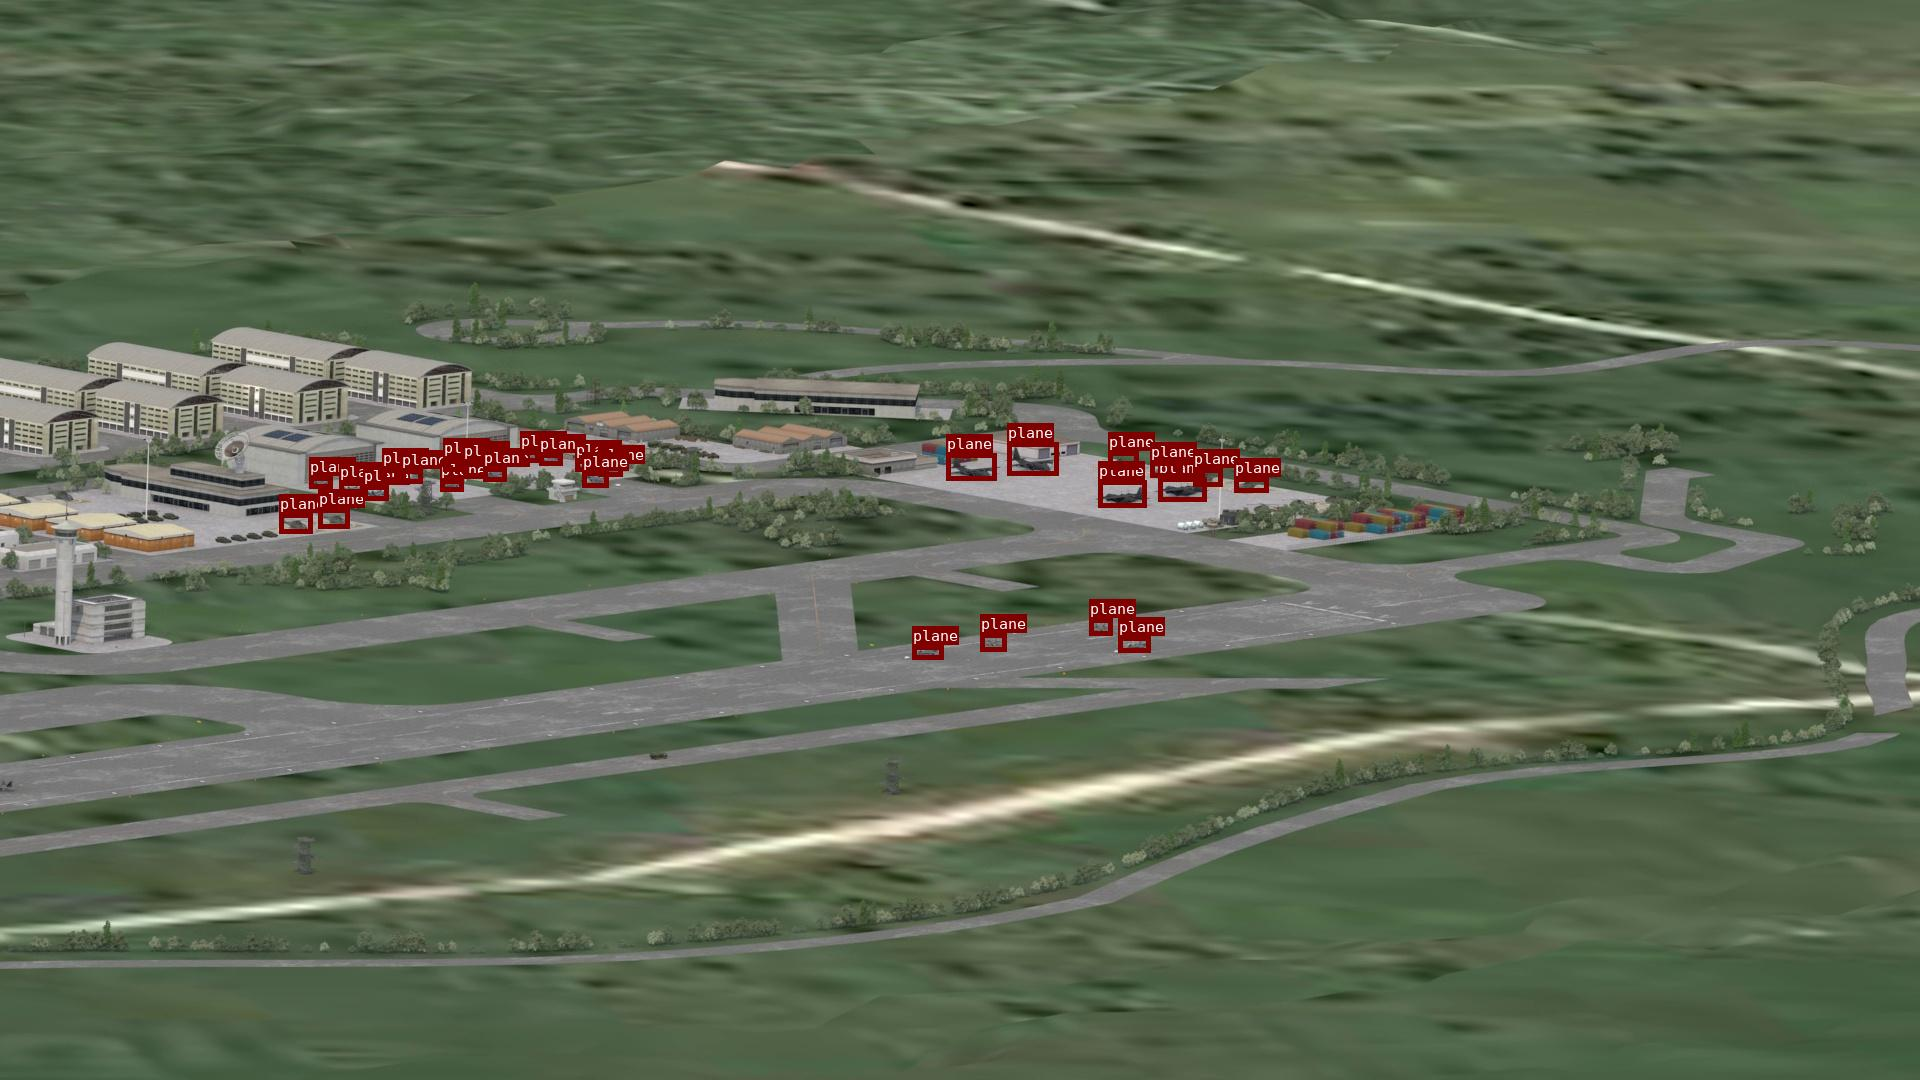plane: (1007, 442, 1058, 475), (945, 454, 996, 480), (1098, 480, 1146, 506), (1158, 477, 1207, 501), (280, 513, 313, 533), (318, 508, 349, 527), (1108, 451, 1138, 469), (1193, 468, 1222, 487), (1118, 636, 1150, 651), (1150, 462, 1182, 477), (1234, 477, 1269, 492), (980, 633, 1006, 651), (913, 645, 943, 659), (582, 471, 608, 487), (463, 460, 487, 477), (1089, 618, 1112, 636), (339, 481, 364, 496), (363, 485, 388, 500), (483, 467, 506, 481), (443, 458, 467, 471), (597, 464, 622, 476), (309, 476, 332, 488), (401, 469, 422, 483), (440, 479, 463, 491), (539, 454, 562, 465), (575, 459, 596, 471), (520, 450, 539, 462), (382, 467, 398, 481)
